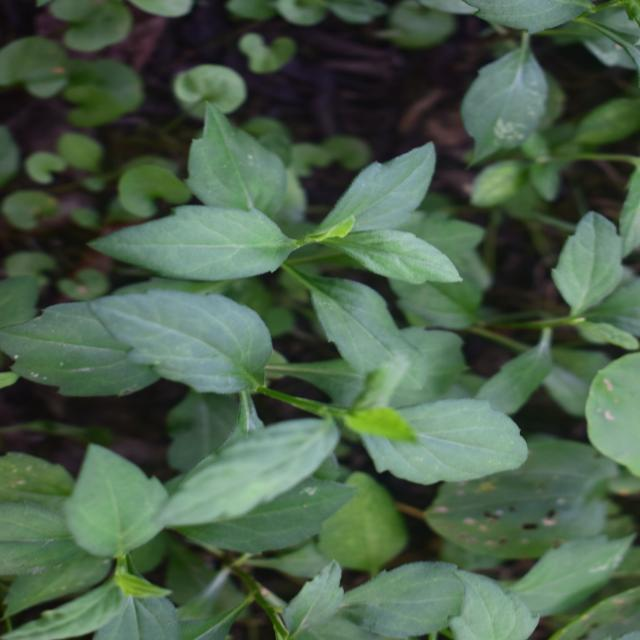Indian aster: (324, 62, 539, 572), (137, 164, 346, 538)
